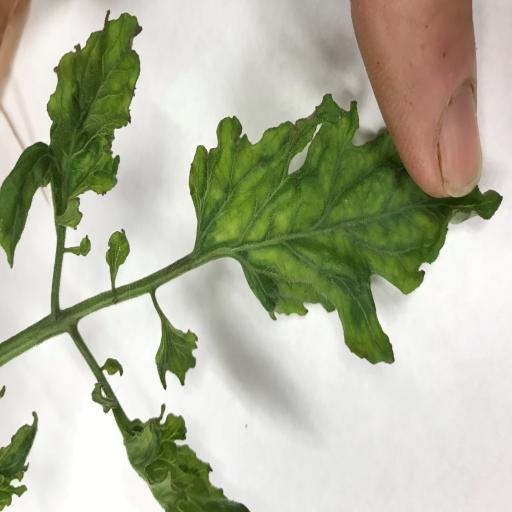Mosaic Virus: (187, 90, 505, 366), (46, 9, 144, 224)
